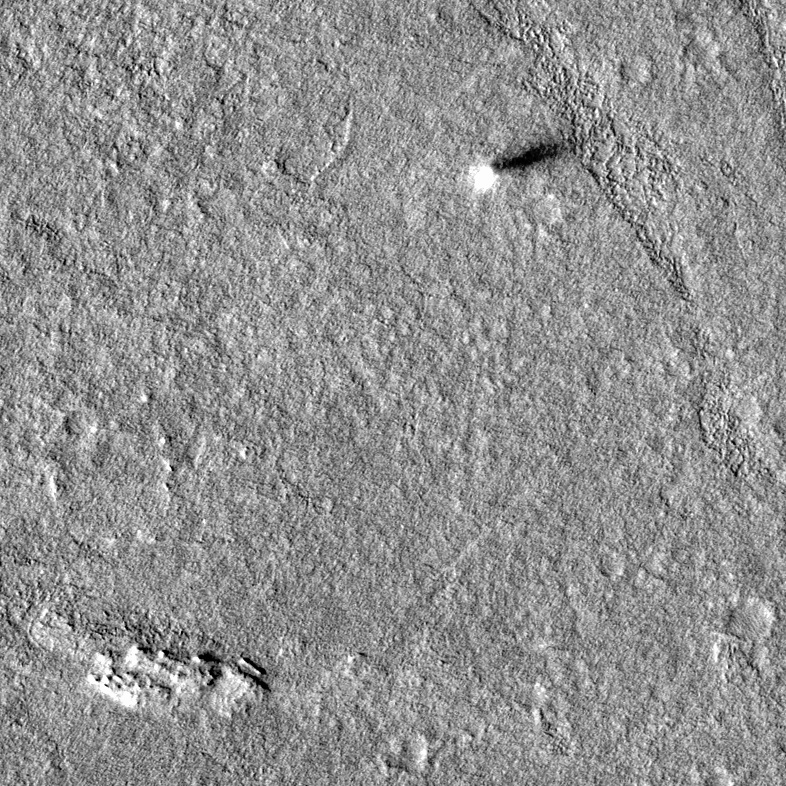dust_devil: (464, 136, 571, 197)
